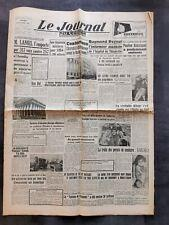paper: (3, 7, 154, 216)
